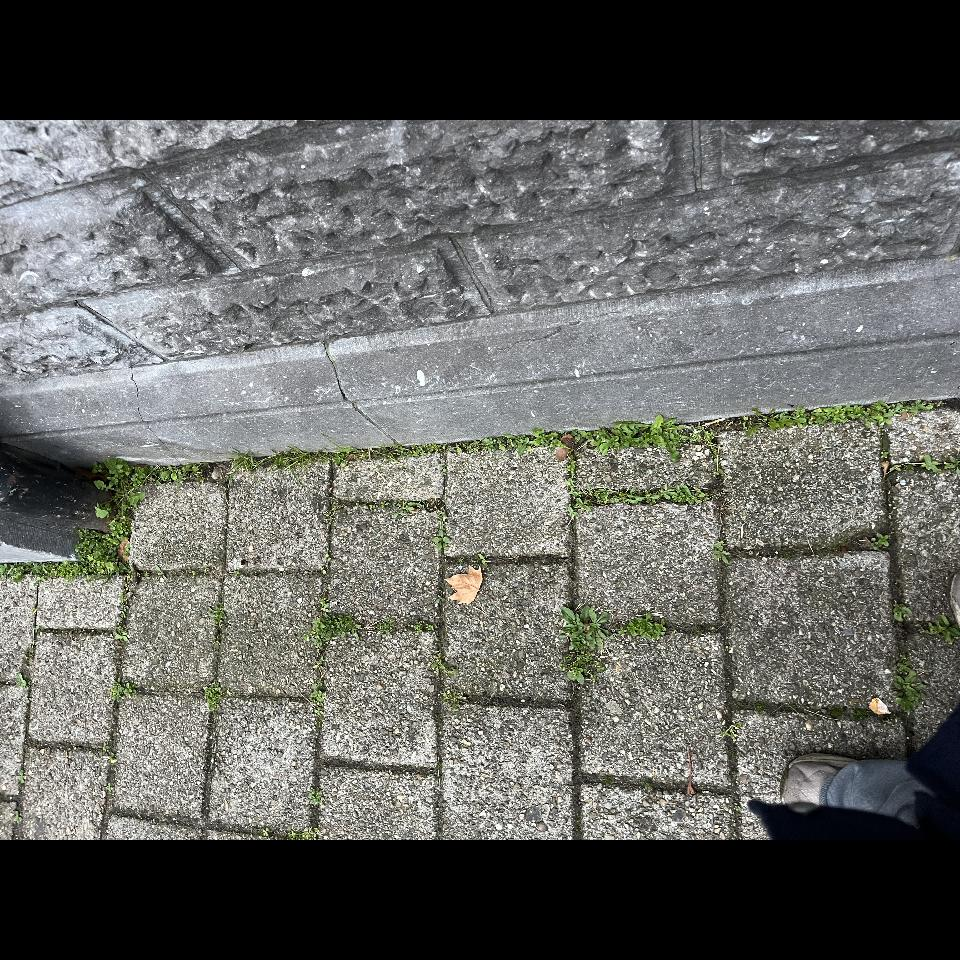weed: (330, 350, 424, 838), (259, 120, 381, 324), (186, 680, 235, 787), (379, 705, 425, 812), (411, 866, 434, 960), (192, 423, 227, 483), (124, 427, 160, 447), (129, 324, 157, 345), (140, 230, 159, 257), (214, 329, 239, 346), (0, 406, 12, 439), (157, 685, 171, 713)
